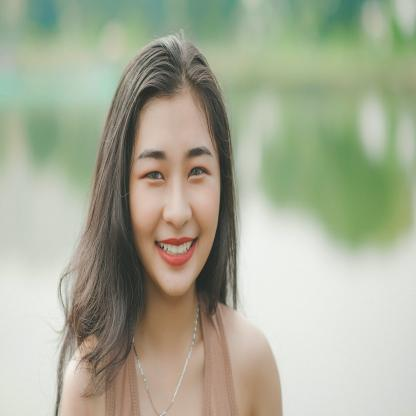Eye: (186, 163, 213, 182), (138, 168, 166, 185)
Mouth: (153, 235, 200, 268)
Nose: (162, 173, 193, 229)
